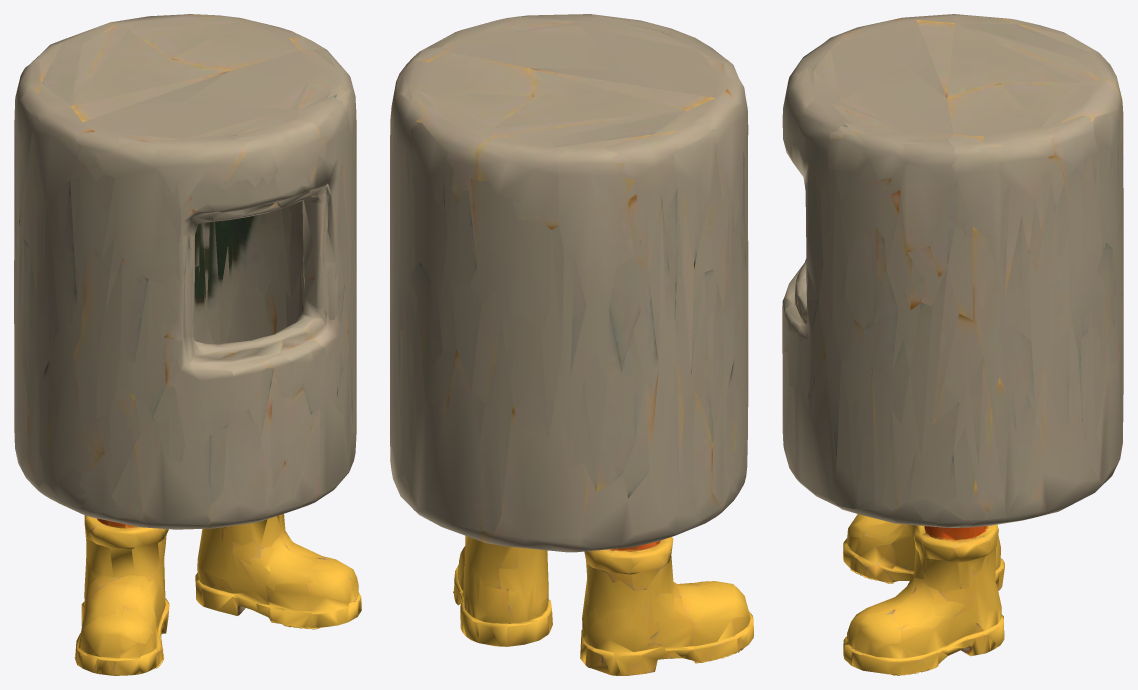
File: window_box.glb
3 views of the same model, side by side, from view 1: azimuth 30°, elevation 25°; view 2: azimuth 150°, elevation 25°; view 3: azimuth 270°, elevation 25° (orthographic). The views are drawn at different scales.
Parts seen in each view (by area): view 1: Mesh_0; view 2: Mesh_0; view 3: Mesh_0.
Part boxes in pixels (box(x1,y1,x2,y2)): Mesh_0: box(14, 14, 361, 675); Mesh_0: box(390, 14, 753, 675); Mesh_0: box(782, 14, 1123, 675).
Bounding box in the file's own units: 1.1 × 1.9 × 1.1.
1 material, 1 textured.
